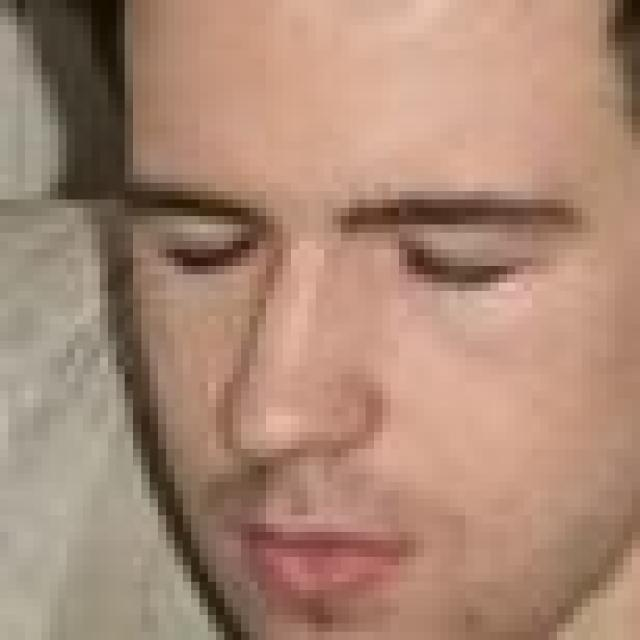close: (359, 179, 574, 305), (119, 172, 281, 301)
